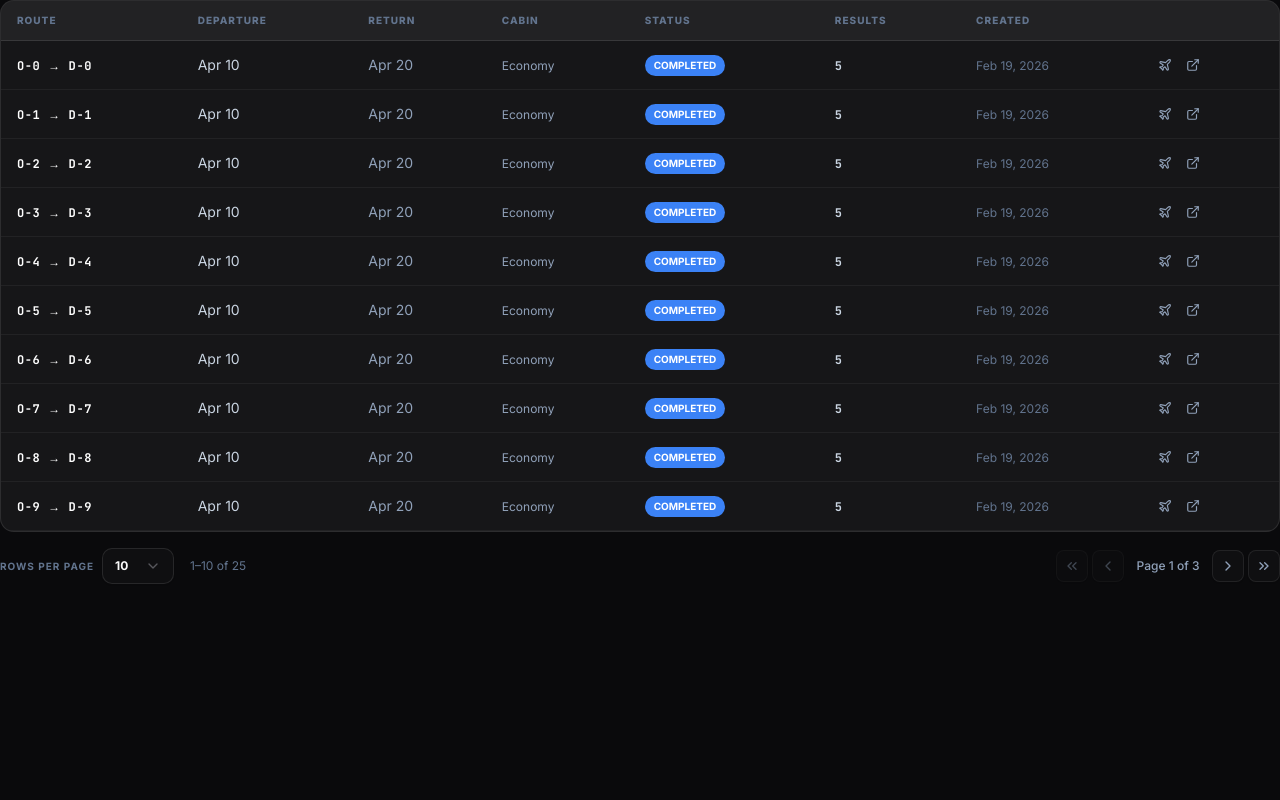
Test: ExecutionsTable › changes page size via rows-per-page select
Expected: the text "Page 1 of 3" is shown, [1137, 558, 1200, 573]
Note: Open the select by clicking the trigger
Click the dropdown at (138, 566), box [102, 548, 174, 584]
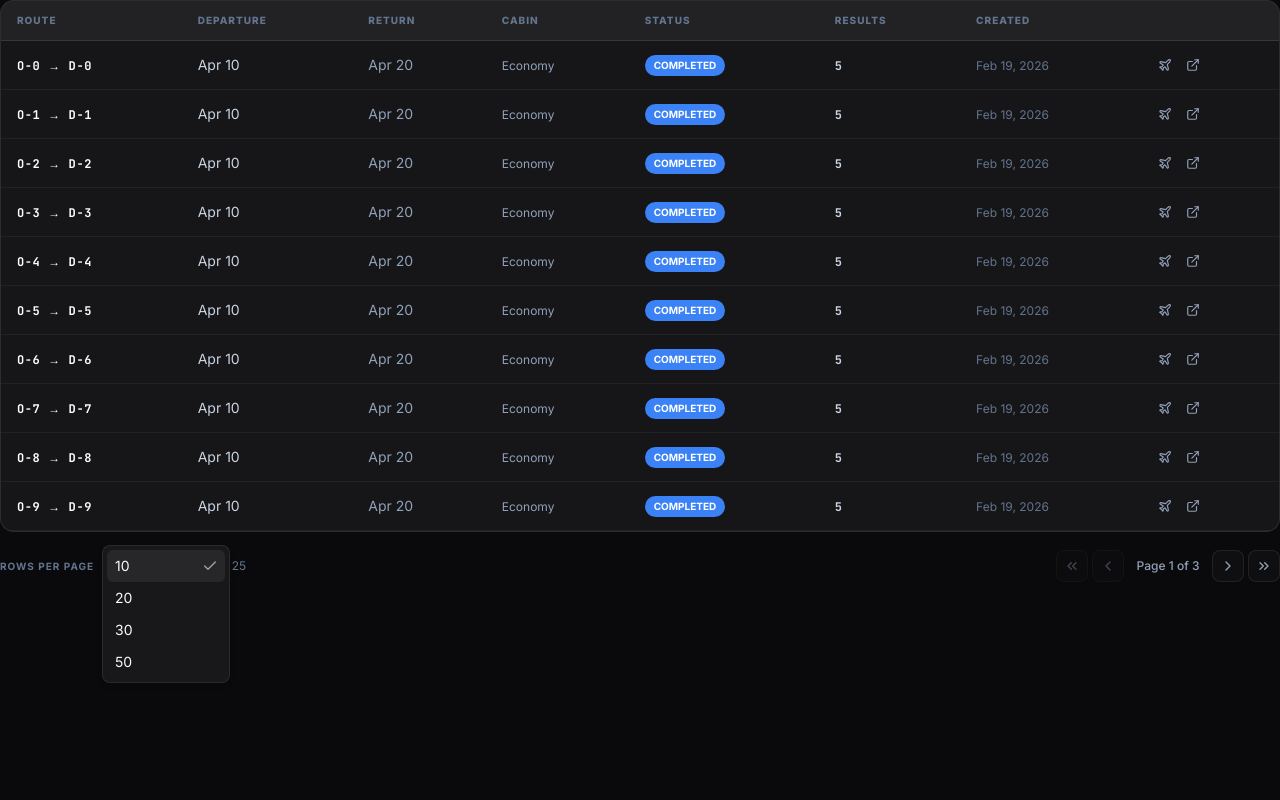
Note: Try keyboard interaction — Radix supports ArrowDown + Enter in listbox
Press Arrowdown Arrowdown Enter
(page scrolled)
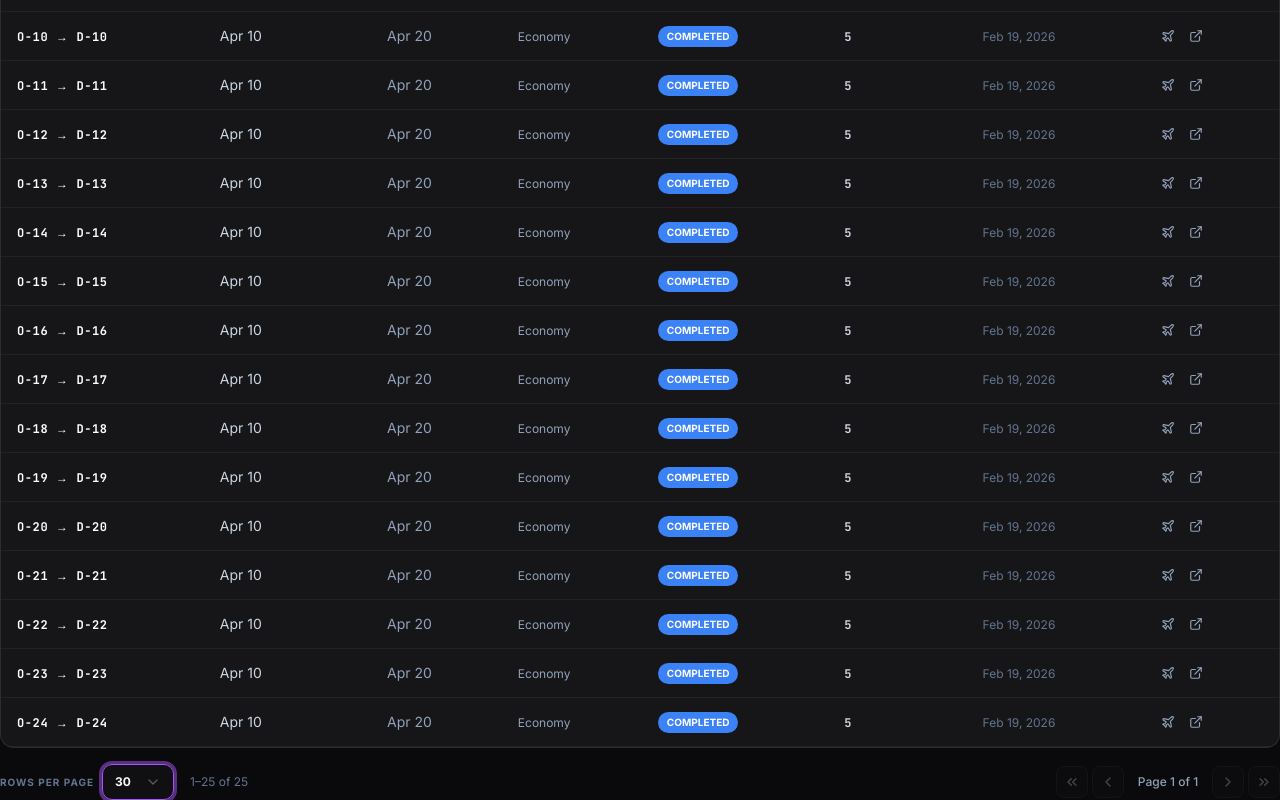
Now the text "Page 1 of 1" is shown, box [1138, 774, 1198, 789]
